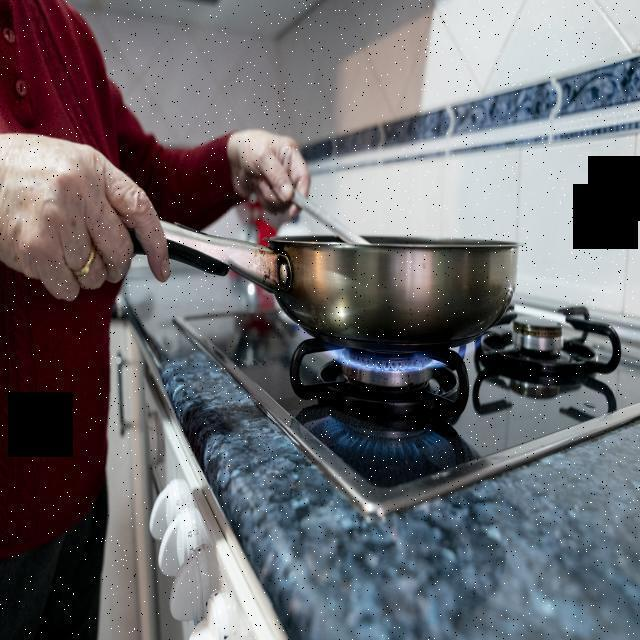Flame: (321, 340, 480, 378)
Pan: (258, 218, 530, 337)
